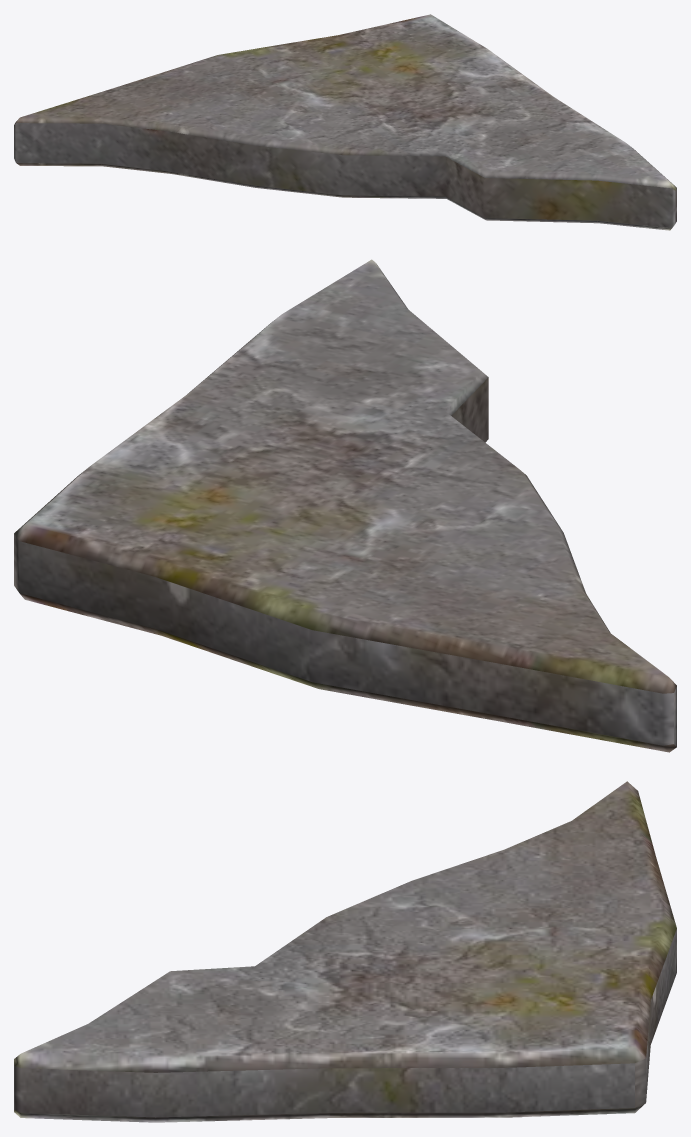
The picture shows the model from 3 angles, top to bottom: view 1: azimuth 30°, elevation 25°; view 2: azimuth 150°, elevation 25°; view 3: azimuth 270°, elevation 25°; orthographic projection. The views are drawn at different scales.
Parts seen in each view (by area): view 1: SM_DR_Flagstone_01_V3_LOD0; view 2: SM_DR_Flagstone_01_V3_LOD0; view 3: SM_DR_Flagstone_01_V3_LOD0.
Boxes of the visible parts, left/top/right/bottom form: SM_DR_Flagstone_01_V3_LOD0: left=14, top=14, right=676, bottom=230; SM_DR_Flagstone_01_V3_LOD0: left=14, top=259, right=676, bottom=752; SM_DR_Flagstone_01_V3_LOD0: left=14, top=781, right=676, bottom=1122.
Size of the model in its own units: 0.9498 by 0.1 by 0.9346.
1 material, 1 textured.
